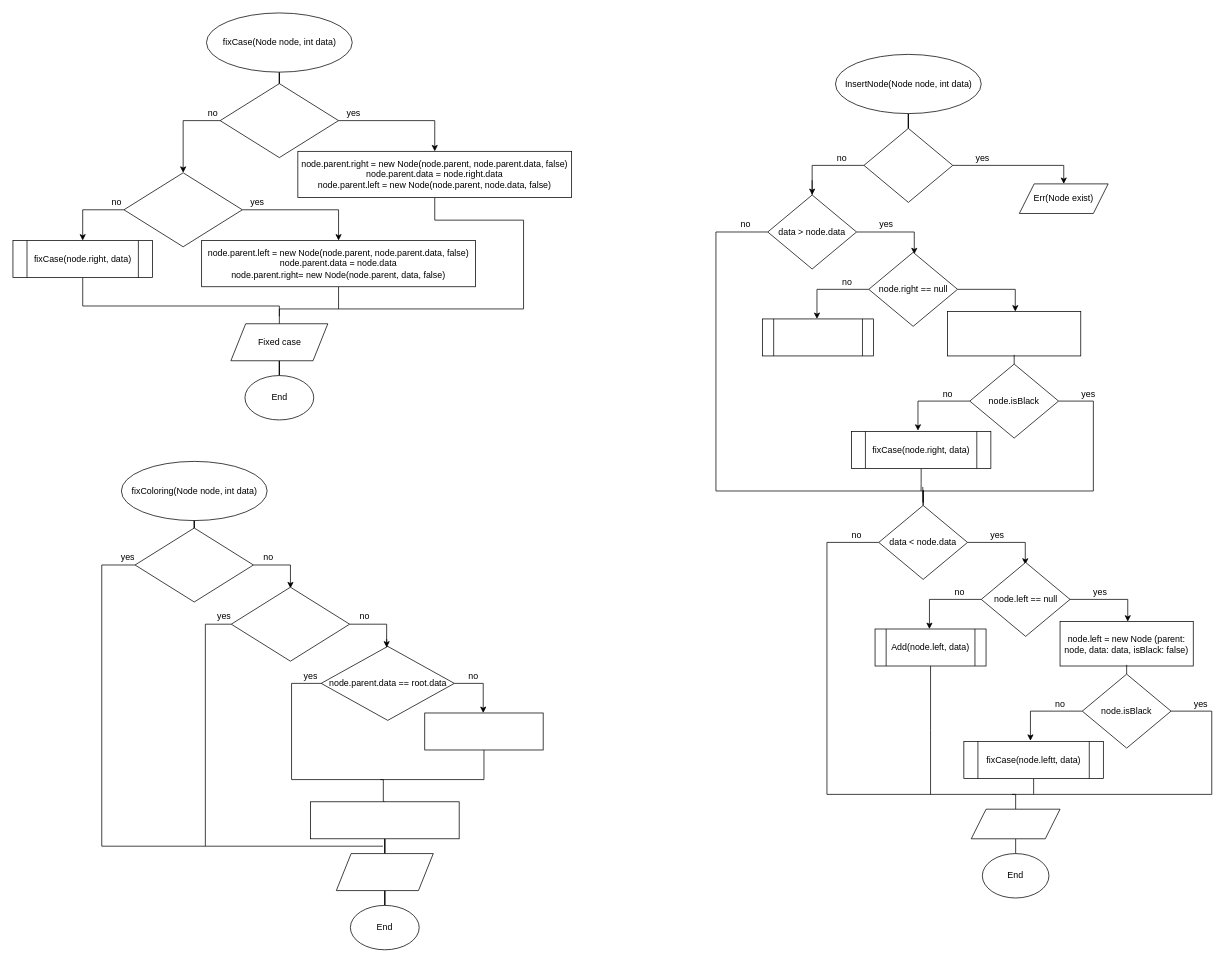
The diagram is 1225 pixels wide and 963 high, and some of its shapes have lost their labels. Each missing label, with the centre of its shape:
Add(node.right, data): the point at 818,337
Coloring fixed: the point at 384,872
data == node.data: the point at 908,165
Node was added: the point at 1015,823
node.parent.isBlack = false: the point at 483,731
node.parent.left == null: the point at 182,209
node.parent.left.isBlack: the point at 290,623
node.parent.right == null: the point at 279,120
node.parent.right.isBlack: the point at 193,564
node.parent.right.isBlack = true node.parent.left.isBlack = true: the point at 384,820
node.right = new Node (parent: node, data: data, isBlack: false): the point at 1014,333
